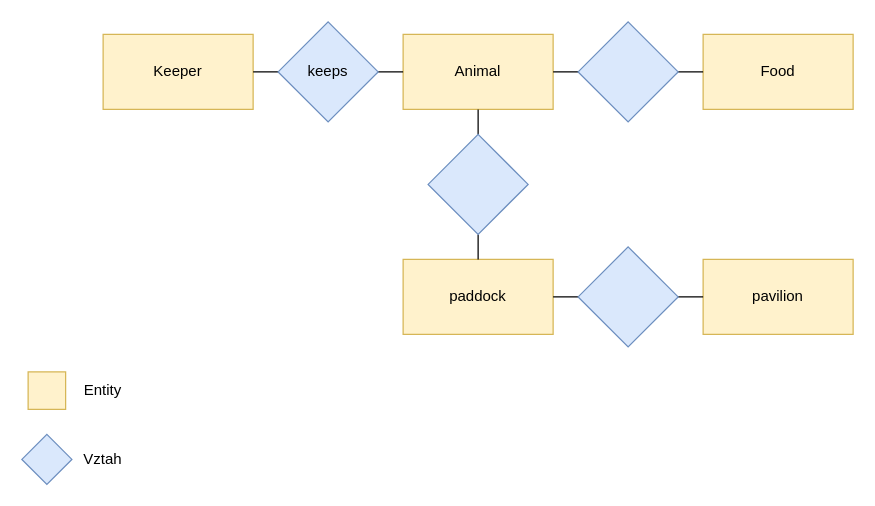
This 875x506 diagram has some shape labels left out. The shapes that lost their labels are listed below. From the top down, each one's box as (x1, y1, x2, y2) in pixels, then its label:
(577, 21, 678, 122): eats
(427, 133, 528, 234): lives in
(577, 246, 678, 347): belongs to
